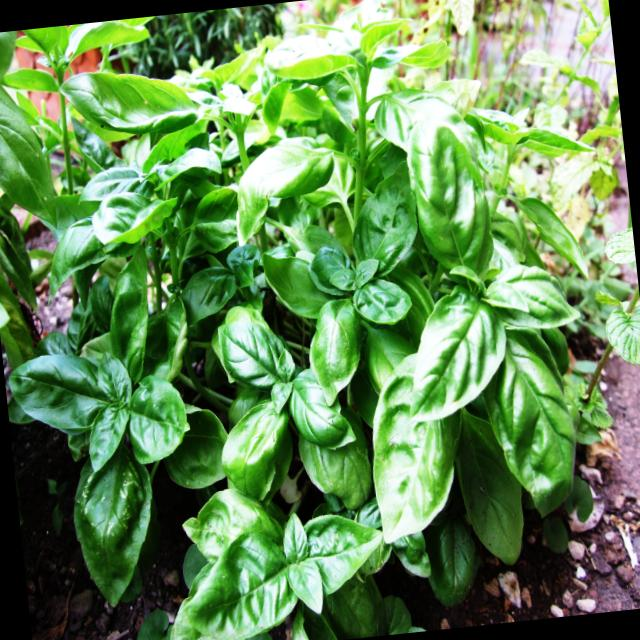Sweet Basil: (170, 172, 464, 630), (390, 78, 640, 538), (16, 258, 254, 588), (232, 6, 462, 238)
